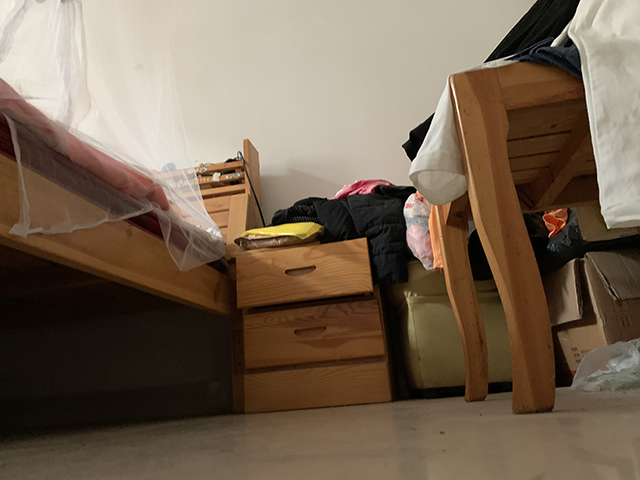bed: (1, 76, 262, 414)
cabinet: (234, 236, 395, 418)
stool: (427, 58, 601, 416)
